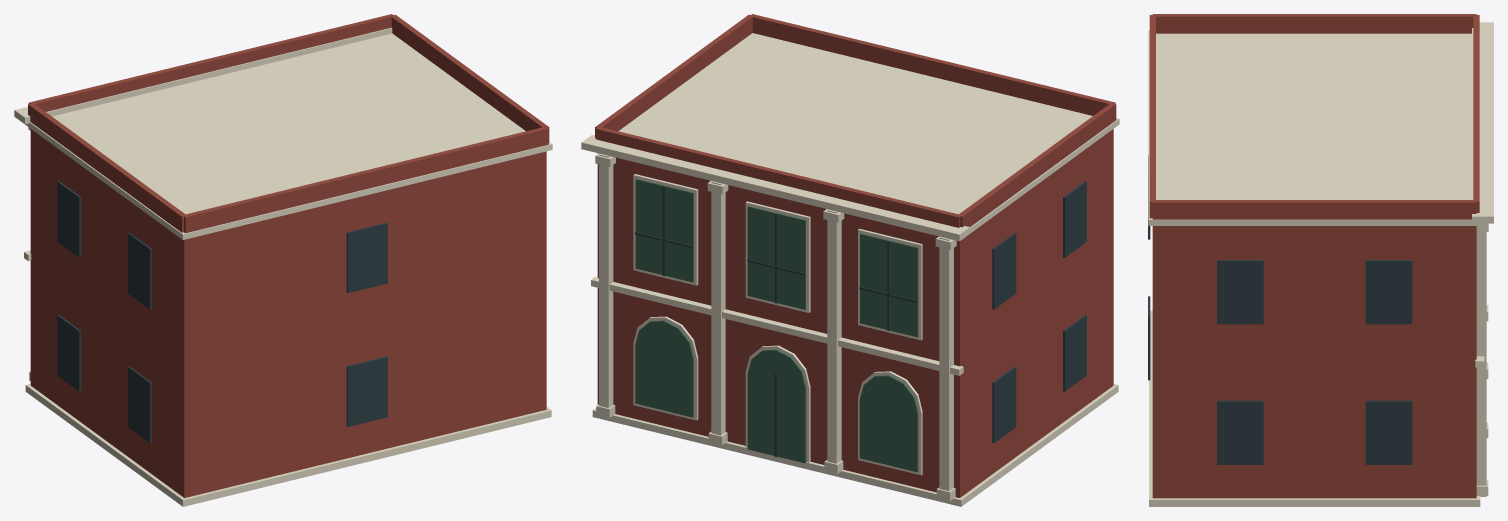
File: KOL_T3_OLD_09.fbx
The picture shows the model from 3 angles, left to right: view 1: azimuth 30°, elevation 25°; view 2: azimuth 150°, elevation 25°; view 3: azimuth 270°, elevation 25°; orthographic projection. The views are drawn at different scales.
Parts seen in each view (by area): view 1: KOL_T3_OLD_09__Body, KOL_T3_OLD_09__Trim, KOL_T3_OLD_09__Dark; view 2: KOL_T3_OLD_09__Body, KOL_T3_OLD_09__Trim, KOL_T3_OLD_09__Accent, KOL_T3_OLD_09__Dark; view 3: KOL_T3_OLD_09__Body, KOL_T3_OLD_09__Trim, KOL_T3_OLD_09__Dark.
Boxes of the visible parts, x1,y1,x2,y2 form: KOL_T3_OLD_09__Body: (28,14,549,497); KOL_T3_OLD_09__Trim: (14,27,552,506); KOL_T3_OLD_09__Dark: (57,181,387,443); KOL_T3_OLD_09__Body: (595,14,1116,497); KOL_T3_OLD_09__Trim: (581,33,1119,506); KOL_T3_OLD_09__Accent: (635,179,918,472); KOL_T3_OLD_09__Dark: (635,181,1086,456); KOL_T3_OLD_09__Body: (1149,14,1479,498); KOL_T3_OLD_09__Trim: (1148,22,1493,506); KOL_T3_OLD_09__Dark: (1148,155,1412,464).
Size of the model in its own units: 35.5 by 25.9 by 26.72.
